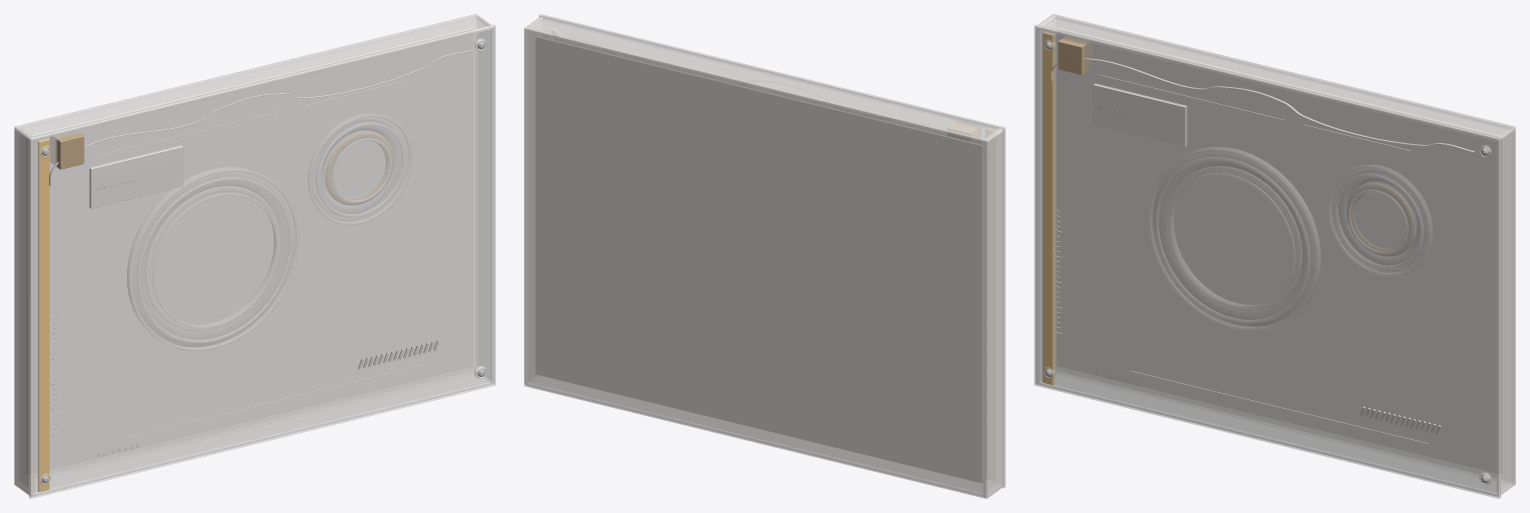
Rendered from archive-assembly.glb.
3 renders of one model, left to right at view 1: azimuth 30°, elevation 25°; view 2: azimuth 150°, elevation 25°; view 3: azimuth 330°, elevation 25°, orthographic.
Visible parts, largest first — view 1: cover__Frosted_Polymer.001, substrate__Optical_Diffuser.001, carrier__Ivory_Edges.001, optical-lenses__Optical_Edges.001, optical-core__Subsurface_Optics.001, cover__Amber_Lightguide.001, cover__Printed_Label.001, cover__Internal_Ceramic.001, optical-core__Champagne_Index.001, cover__Champagne_Index.001; view 2: carrier__Ivory_Edges.001, substrate__Optical_Diffuser.001, cover__Frosted_Polymer.001; view 3: cover__Frosted_Polymer.001, substrate__Optical_Diffuser.001, carrier__Ivory_Edges.001, optical-lenses__Optical_Edges.001, optical-core__Subsurface_Optics.001, cover__Amber_Lightguide.001, cover__Printed_Label.001, cover__Internal_Ceramic.001, optical-core__Champagne_Index.001, cover__Champagne_Index.001.
Part boxes in pixels (<box>): cover__Frosted_Polymer.001: <box>29,24,495,498</box>; substrate__Optical_Diffuser.001: <box>32,28,472,472</box>; carrier__Ivory_Edges.001: <box>14,14,493,496</box>; optical-lenses__Optical_Edges.001: <box>128,113,412,350</box>; optical-core__Subsurface_Optics.001: <box>127,121,401,346</box>; cover__Amber_Lightguide.001: <box>37,138,49,491</box>; cover__Printed_Label.001: <box>89,145,183,208</box>; cover__Internal_Ceramic.001: <box>49,49,473,457</box>; optical-core__Champagne_Index.001: <box>325,132,393,205</box>; cover__Champagne_Index.001: <box>50,131,84,169</box>; carrier__Ivory_Edges.001: <box>524,16,1003,498</box>; substrate__Optical_Diffuser.001: <box>536,36,982,482</box>; cover__Frosted_Polymer.001: <box>539,14,1005,488</box>; cover__Frosted_Polymer.001: <box>1034,24,1500,498</box>; substrate__Optical_Diffuser.001: <box>1057,28,1503,474</box>; carrier__Ivory_Edges.001: <box>1036,14,1515,496</box>; optical-lenses__Optical_Edges.001: <box>1148,148,1432,330</box>; optical-core__Subsurface_Optics.001: <box>1153,147,1425,326</box>; cover__Amber_Lightguide.001: <box>1042,31,1054,384</box>; cover__Printed_Label.001: <box>1093,83,1187,146</box>; cover__Internal_Ceramic.001: <box>1051,58,1474,443</box>; optical-core__Champagne_Index.001: <box>1347,183,1414,256</box>; cover__Champagne_Index.001: <box>1058,36,1092,74</box>.
Size of the model in its own units: 5 by 3.7 by 0.392.
